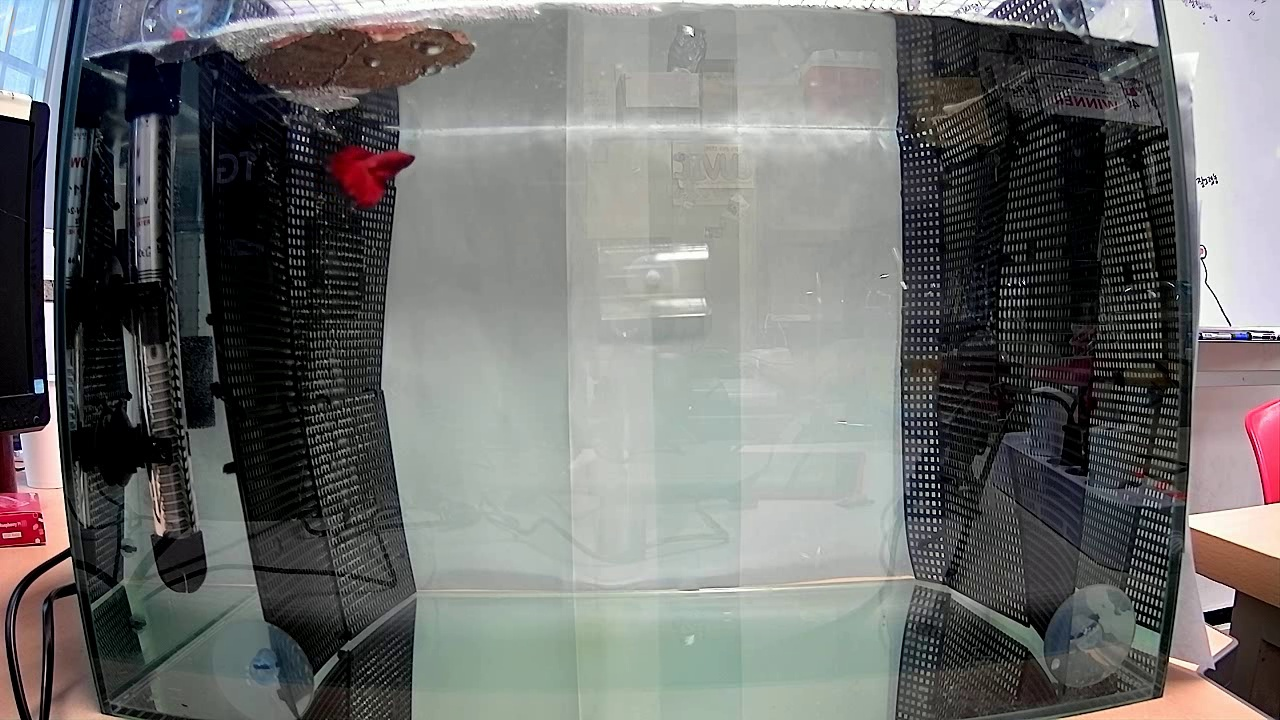fish: (326, 140, 414, 204)
